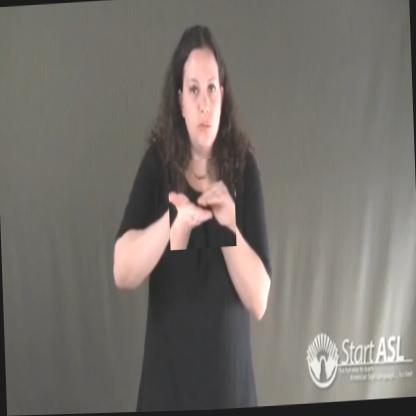ExcuseMe: (168, 158, 236, 251)
